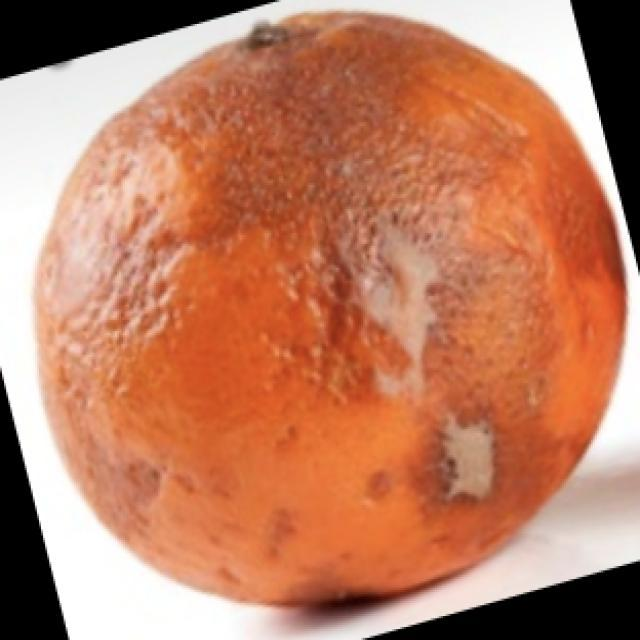sangat-busuk: (37, 13, 625, 604)
